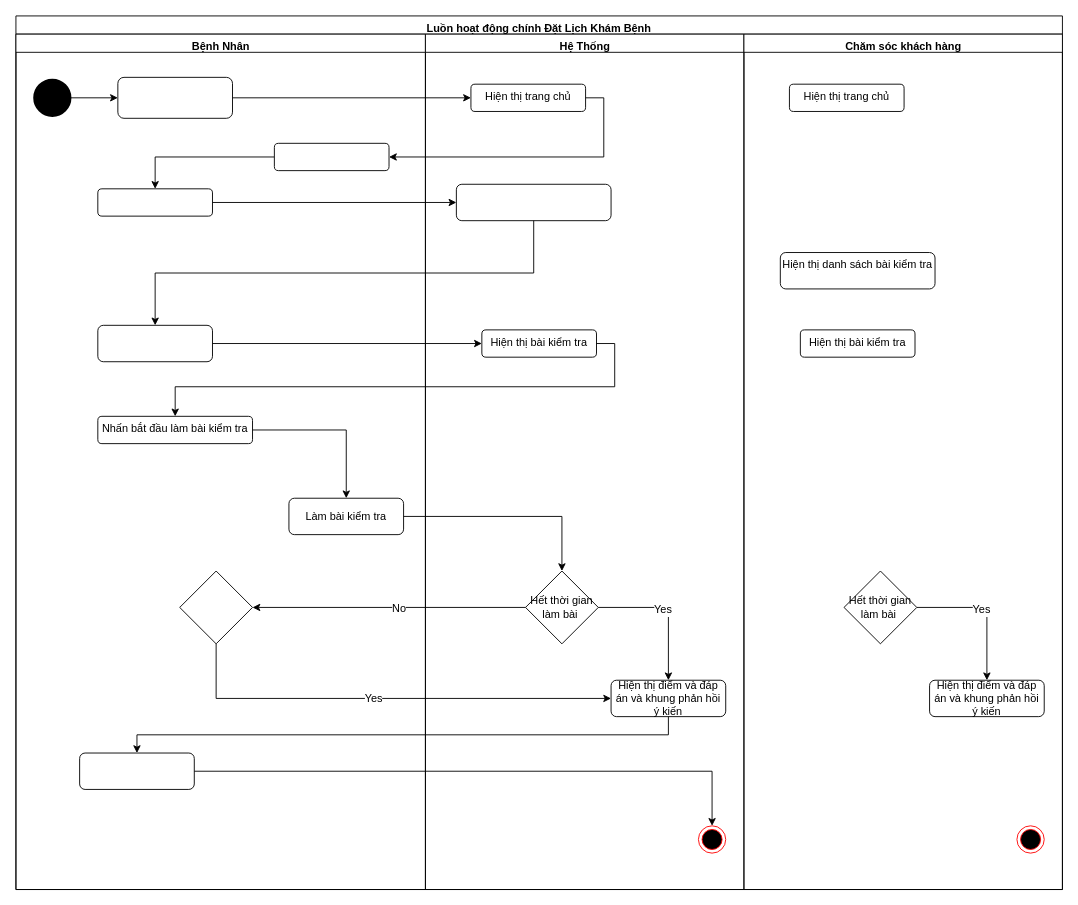
This 1078x905 diagram has some shape labels left out. The centre of each missing label's shape, as x and y in pixels:
Chọn đã làm xong: (216,607)
Hiện thị giao diện đặt lịch khám: (533,202)
Nhập các thông tin về người đặt lịch: (154,343)
Truy cập vào ứng dụng "Bệnh viện số": (175,97)
Truy cập Đặt lịch khám: (154,202)
Xem đáp án điểm: (136,770)
Đăng nhập tài khoản: (331,156)
